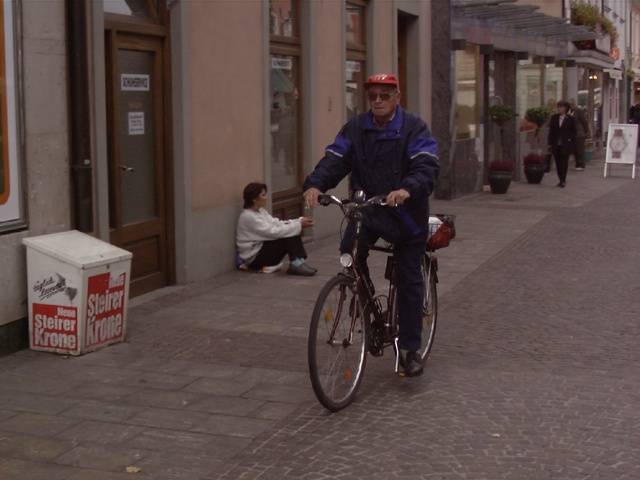person: (301, 73, 438, 375), (545, 98, 578, 185)
